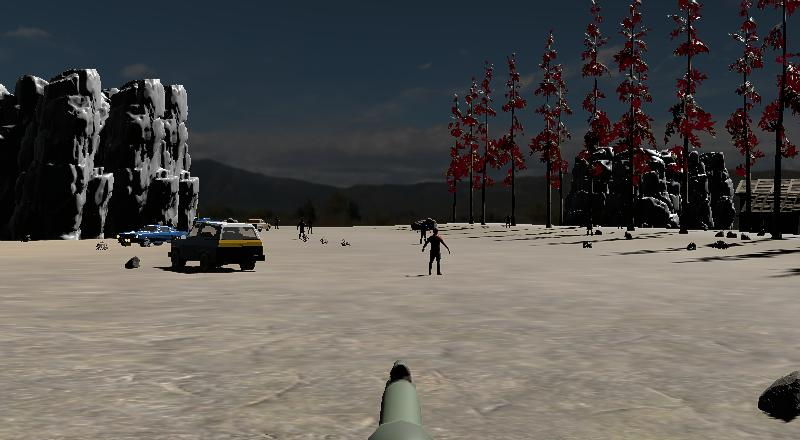Human: (421, 226, 452, 278)
car: (165, 215, 269, 276), (115, 222, 189, 249)
